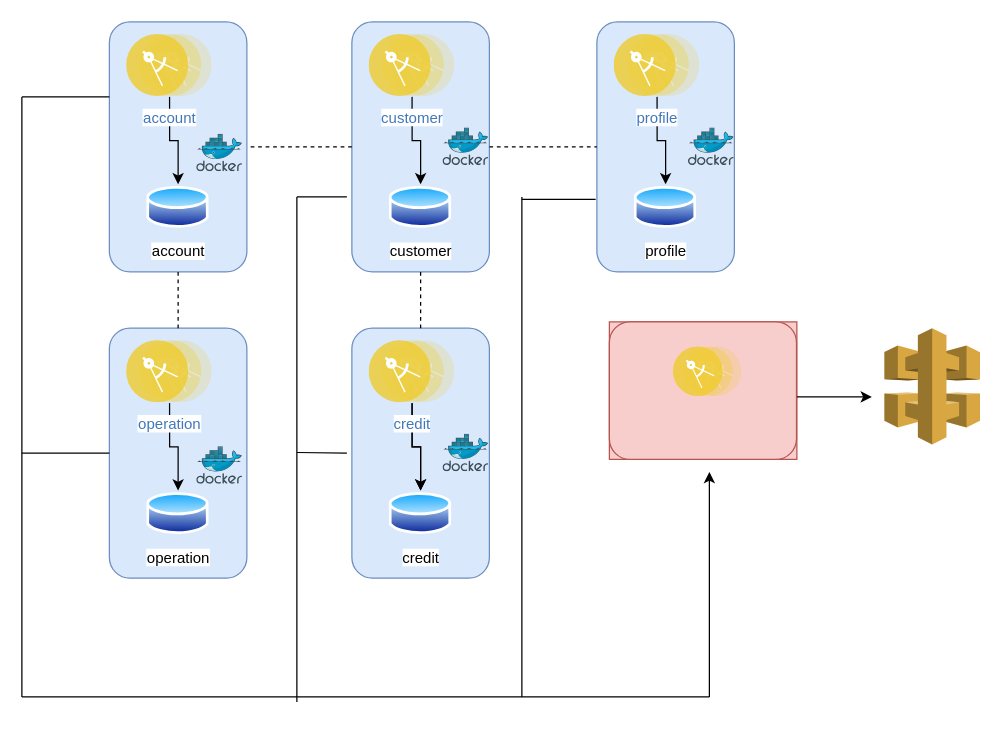
This 1004x729 diagram has some shape labels left out. The centre of each missing label's shape, as x and y in pixels:
"API GATEWAY" belongs at point 931,385.
"EUREKA REGISTER" belongs at point 707,371.
